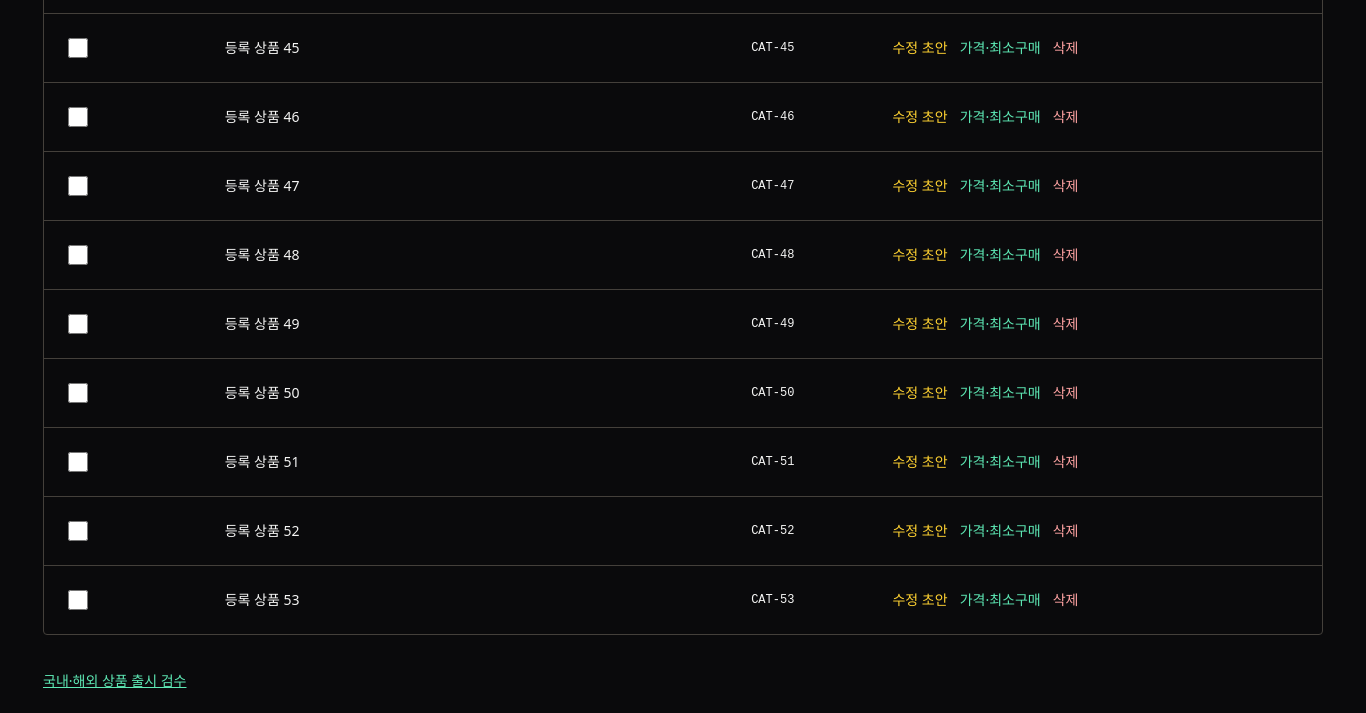
it: a single checkbox downloads Korean by default without widening the selection
(page scrolled)
Click the checkbox named "등록 상품 53 PDF 선택" next to "등록 상품 53": x=78, y=600 [68,590,88,610]
(page scrolled)
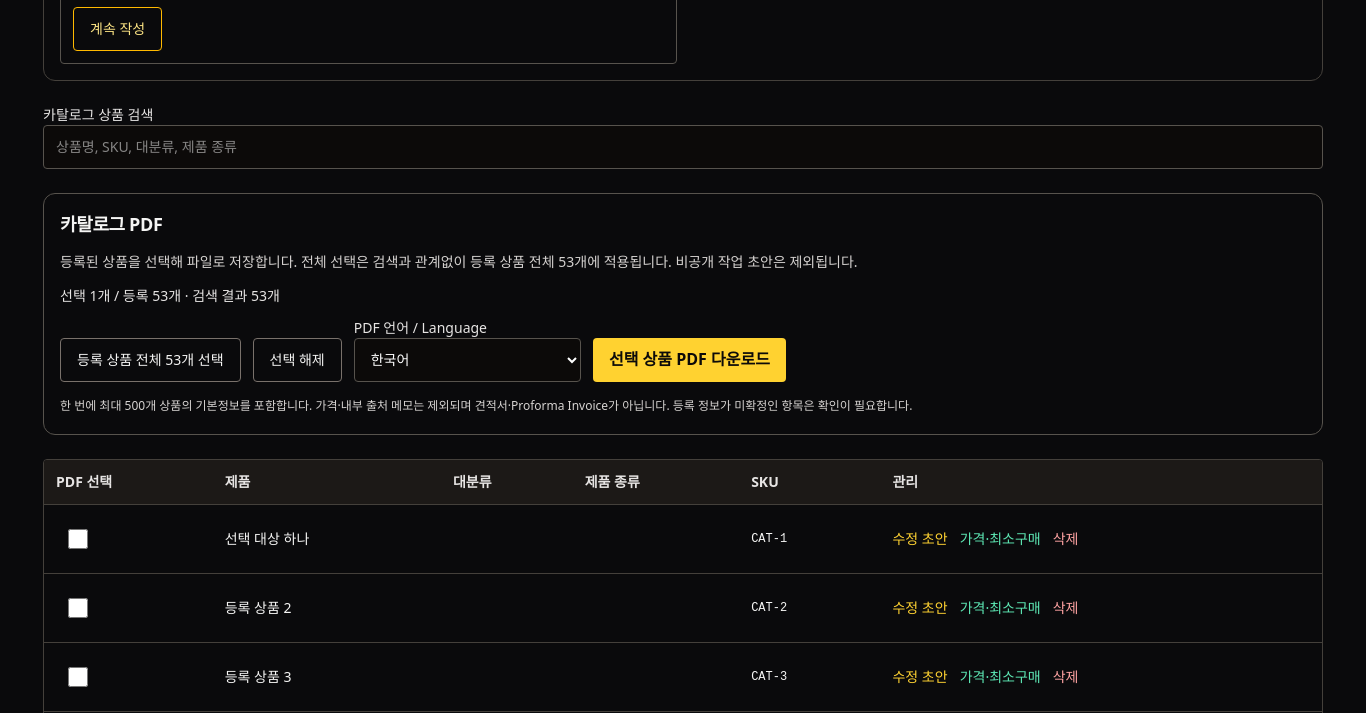
Click the button "선택 상품 PDF 다운로드": x=689, y=360 [593,338,786,382]
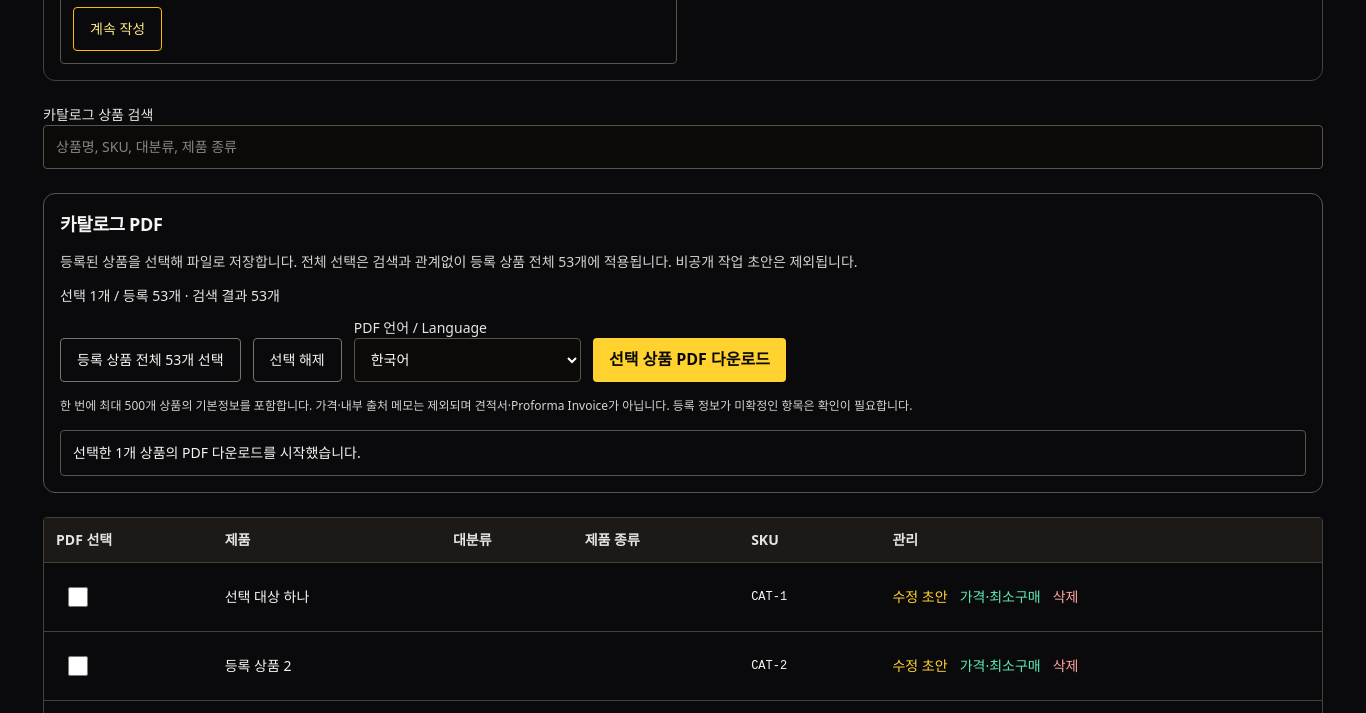
Result: the text "선택한 1개 상품의 PDF 다운로드를 시작했습니다." is shown at [60,430,1306,476]
